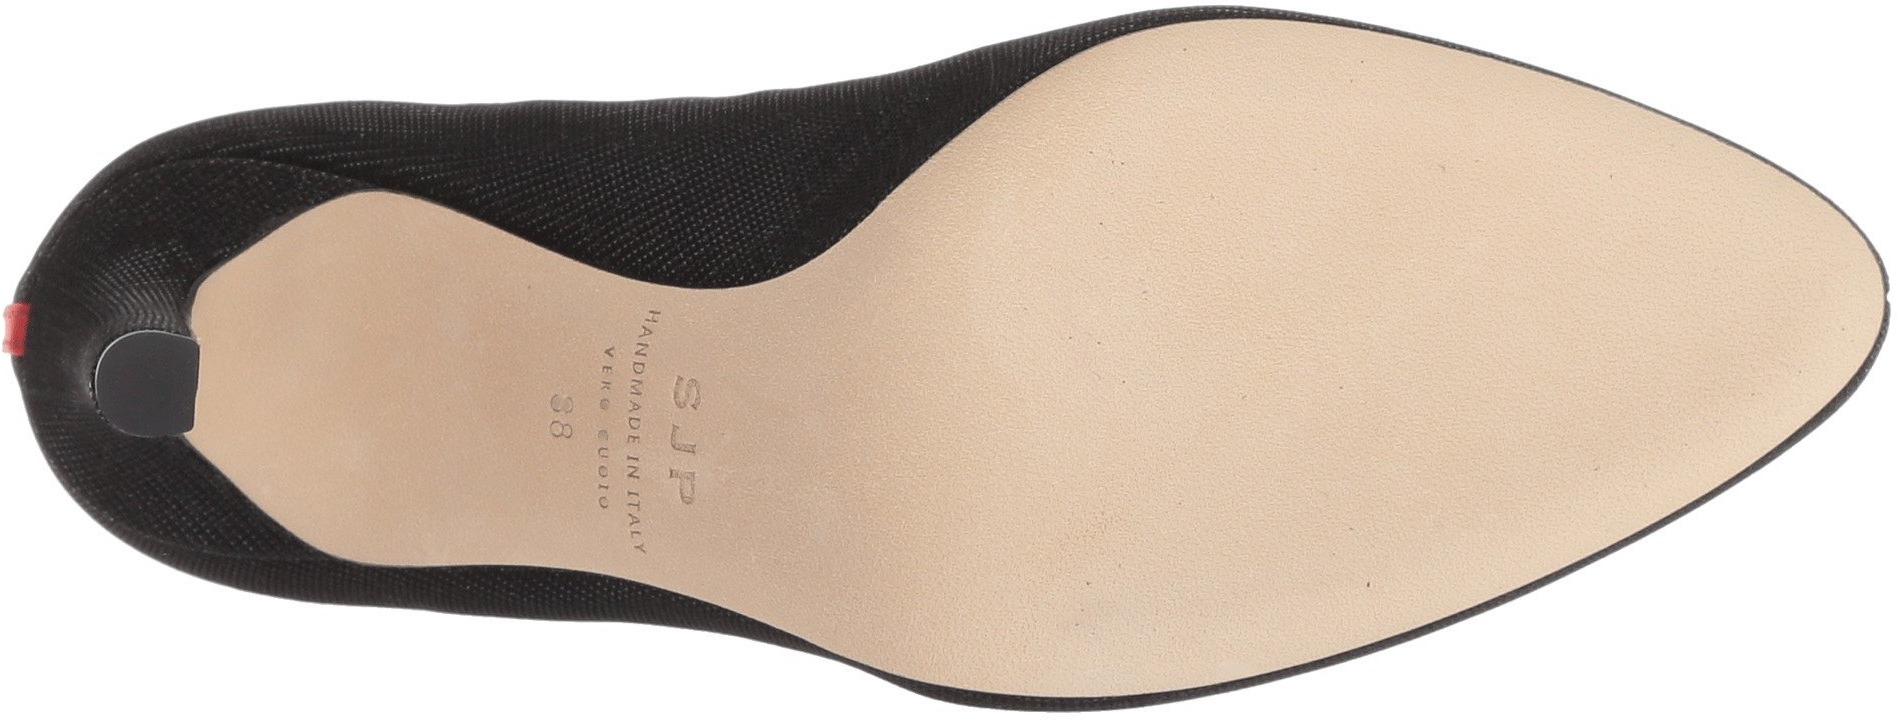other: (1112, 155, 1491, 535), (884, 212, 1201, 472), (1204, 63, 1494, 344), (1206, 351, 1492, 593), (1500, 237, 1735, 467), (905, 480, 1134, 693), (1046, 73, 1198, 205), (1500, 109, 1647, 240), (122, 344, 194, 421)
